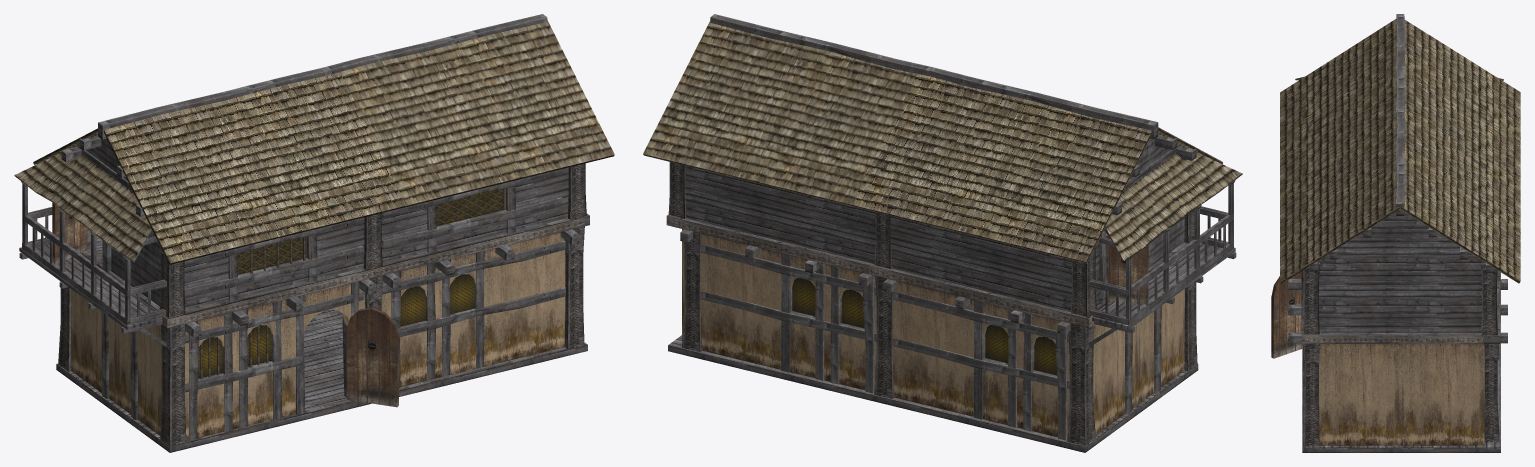
Rendered from v3_house6.dae.
3 views of the same model, side by side, from view 1: azimuth 30°, elevation 25°; view 2: azimuth 150°, elevation 25°; view 3: azimuth 270°, elevation 25° (orthographic). The views are drawn at different scales.
Parts seen in each view (by area): view 1: roof_01, WoodPlanks, bricks_old_03, WoodPlanks_ornaments, dorwindow_set, windows2_c; view 2: roof_01, WoodPlanks, bricks_old_03, WoodPlanks_ornaments, windows2_c, dorwindow_set; view 3: roof_01, WoodPlanks, bricks_old_03, WoodPlanks_ornaments, dorwindow_set.
Boxes of the visible parts, x1,y1,x2,y2 form: roof_01: [14, 20, 614, 264]; WoodPlanks: [15, 14, 587, 452]; bricks_old_03: [71, 232, 565, 440]; WoodPlanks_ornaments: [58, 163, 589, 446]; dorwindow_set: [52, 202, 398, 407]; windows2_c: [198, 188, 505, 378]; roof_01: [643, 21, 1242, 263]; WoodPlanks: [668, 14, 1242, 452]; bricks_old_03: [682, 229, 1184, 438]; WoodPlanks_ornaments: [666, 162, 1197, 445]; windows2_c: [792, 278, 1057, 375]; dorwindow_set: [1106, 236, 1148, 304]; roof_01: [1280, 19, 1520, 283]; WoodPlanks: [1288, 14, 1507, 452]; bricks_old_03: [1319, 344, 1484, 445]; WoodPlanks_ornaments: [1301, 262, 1500, 446]; dorwindow_set: [1271, 271, 1302, 358].
Size of the model in its own units: 9.71 by 5.7 by 5.05.
